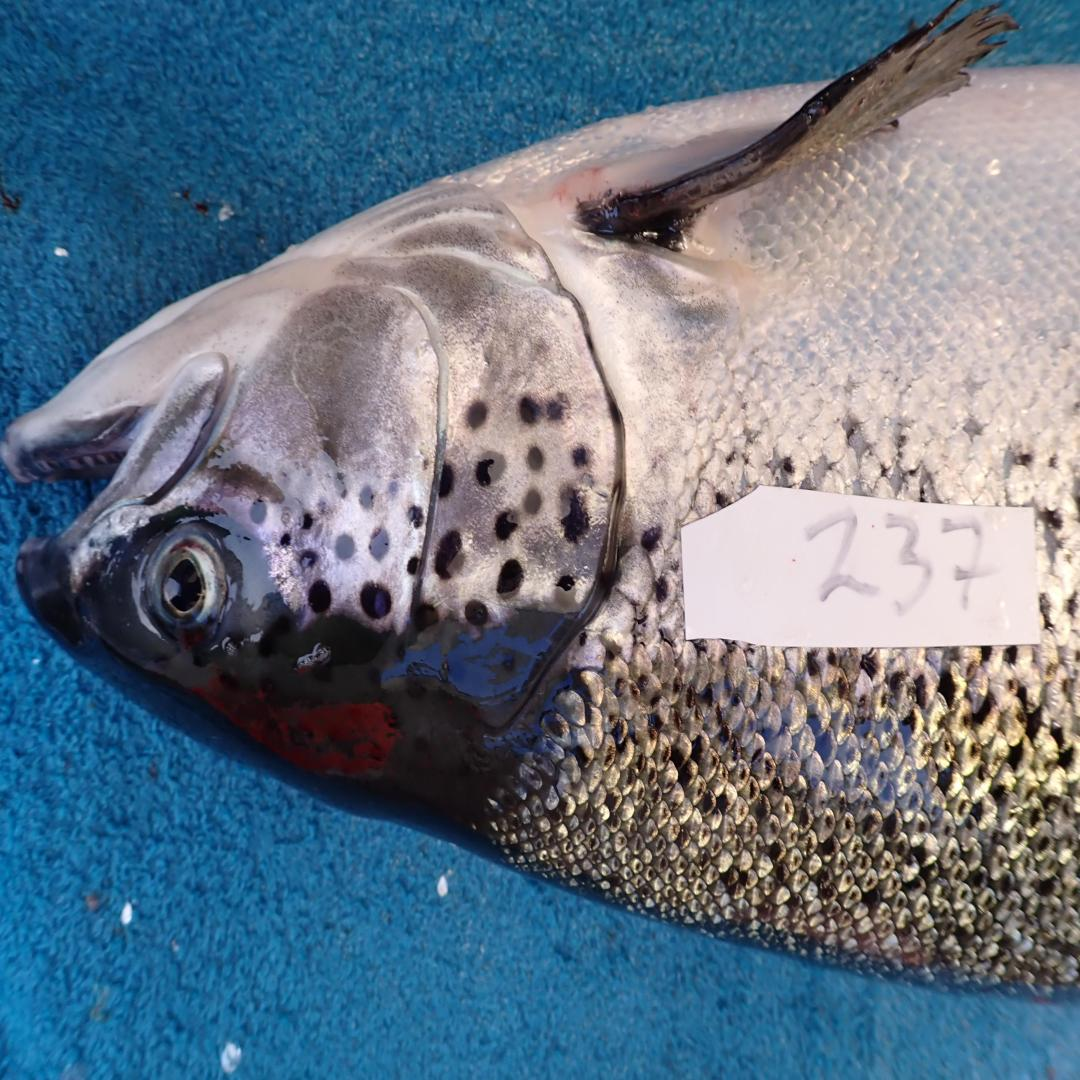spot: (561, 487, 591, 543), (435, 530, 463, 579), (361, 582, 392, 619), (475, 450, 506, 487), (498, 560, 523, 593), (308, 579, 331, 613), (554, 574, 576, 609), (544, 394, 570, 422), (413, 605, 439, 633), (464, 599, 489, 627), (369, 529, 390, 560), (466, 399, 487, 430), (494, 512, 517, 540), (519, 397, 542, 425), (439, 464, 454, 498), (335, 534, 354, 560), (523, 489, 542, 515), (527, 444, 544, 470), (572, 444, 591, 467), (407, 506, 424, 529), (251, 501, 266, 523), (334, 472, 347, 497), (359, 487, 373, 509), (300, 551, 316, 568), (407, 557, 420, 574), (302, 515, 312, 529), (281, 532, 291, 546), (388, 483, 397, 497), (423, 461, 429, 470)
